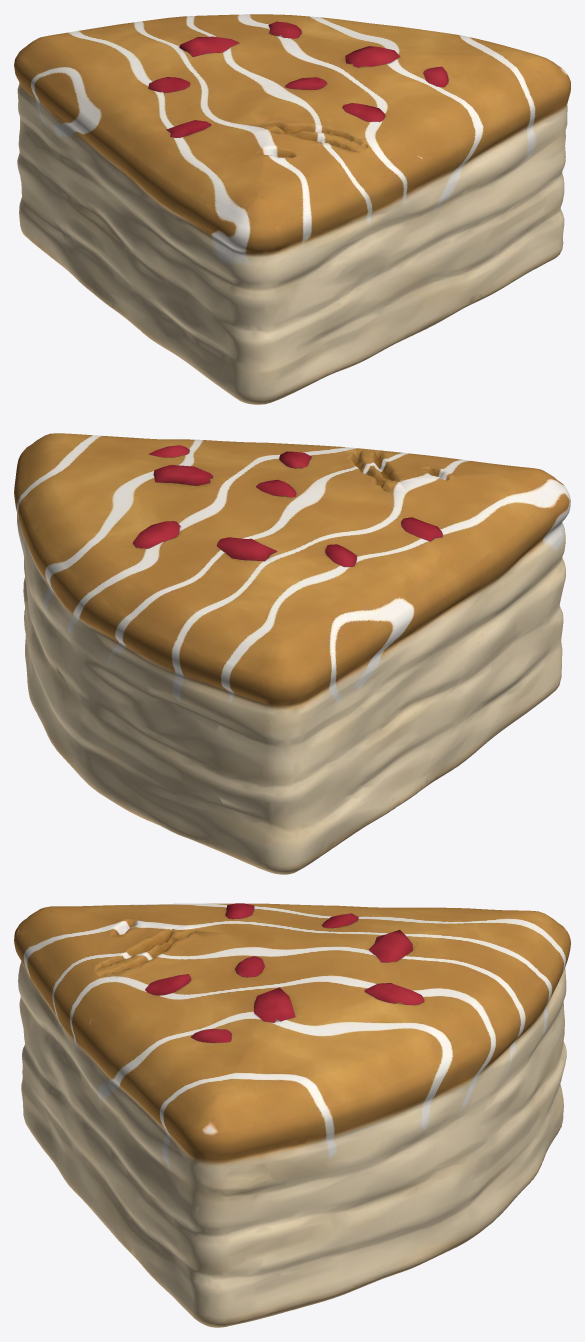
File: scone--cranberry-dried.glb
The picture shows the model from 3 angles, top to bottom: view 1: azimuth 30°, elevation 25°; view 2: azimuth 150°, elevation 25°; view 3: azimuth 270°, elevation 25°; orthographic projection. The views are drawn at different scales.
Visible parts, largest first — view 1: scone_cranberry-dried; view 2: scone_cranberry-dried; view 3: scone_cranberry-dried.
Boxes of the visible parts, left/top/right/bottom form: scone_cranberry-dried: left=14, top=14, right=570, bottom=404; scone_cranberry-dried: left=14, top=433, right=570, bottom=874; scone_cranberry-dried: left=14, top=903, right=570, bottom=1327.
Bounding box in the file's own units: 0.9393 × 0.4789 × 0.9762.
Materials: 1 (1 with a texture image).
